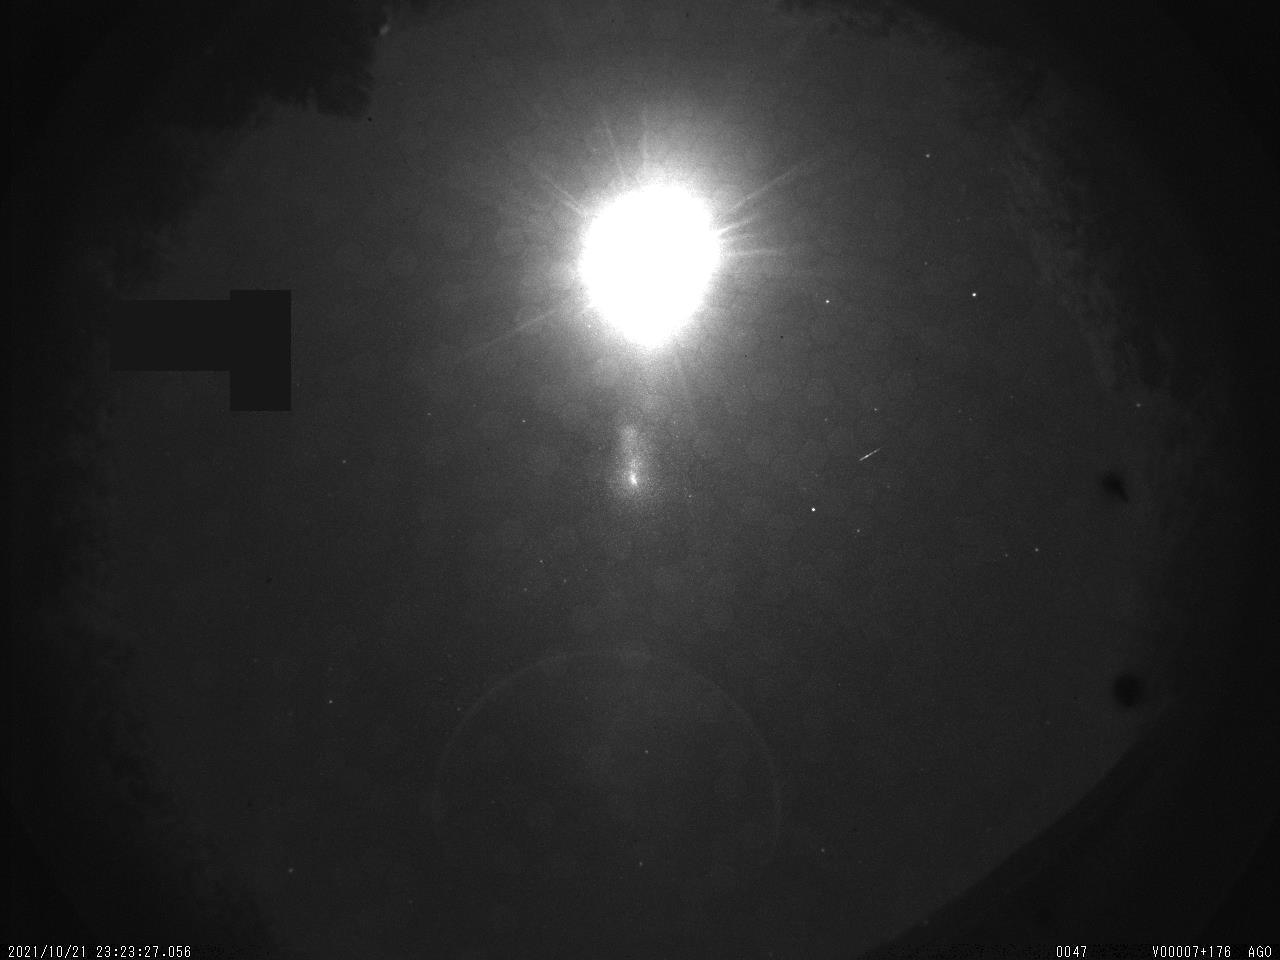Meteor: (849, 440, 889, 471)
